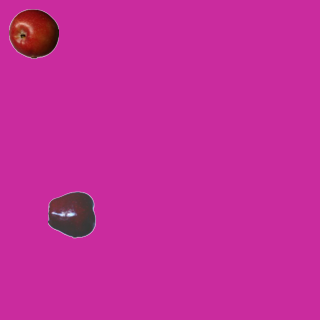Apple Braeburn: (8, 8, 58, 58)
Apple Red Delicious: (47, 189, 97, 239)
